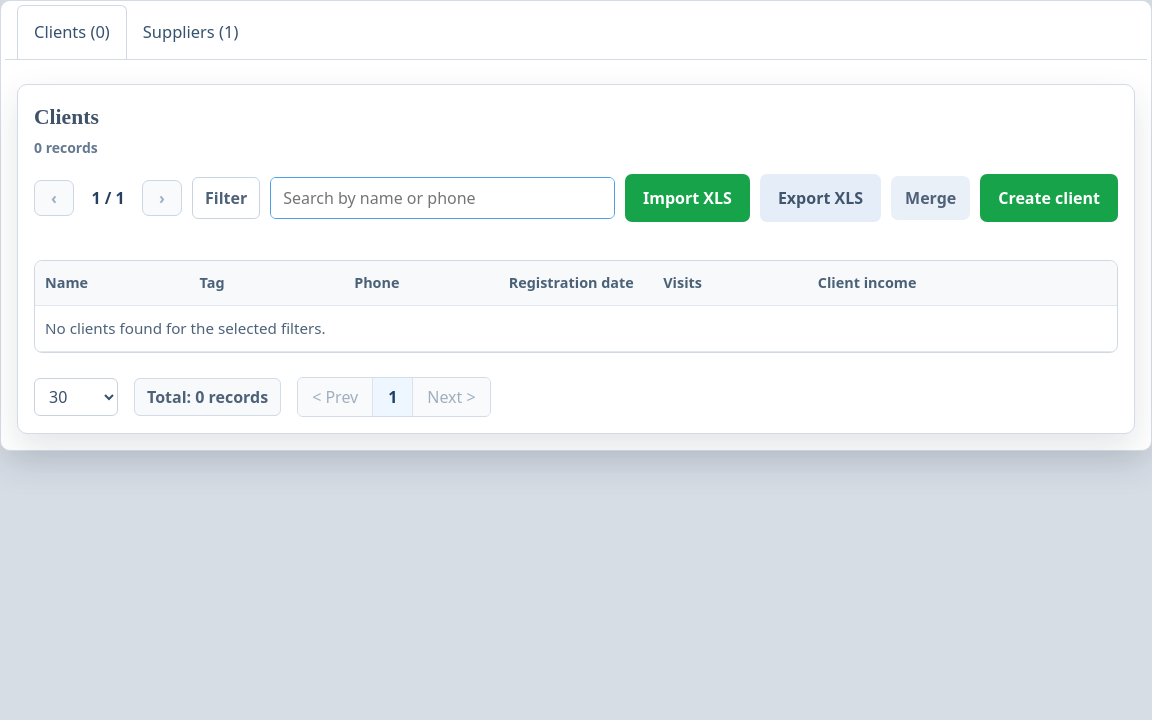
Scenario: ClientsSuppliersWorkspace suppliers filters › opens CatalogRecordMergeModal on Clients tab with swap and target/source inputs
What coordinates should you click on to do the following:
click the button "Merge"
I would click on:
 (931, 198)
Its box is [891,176,970,220].
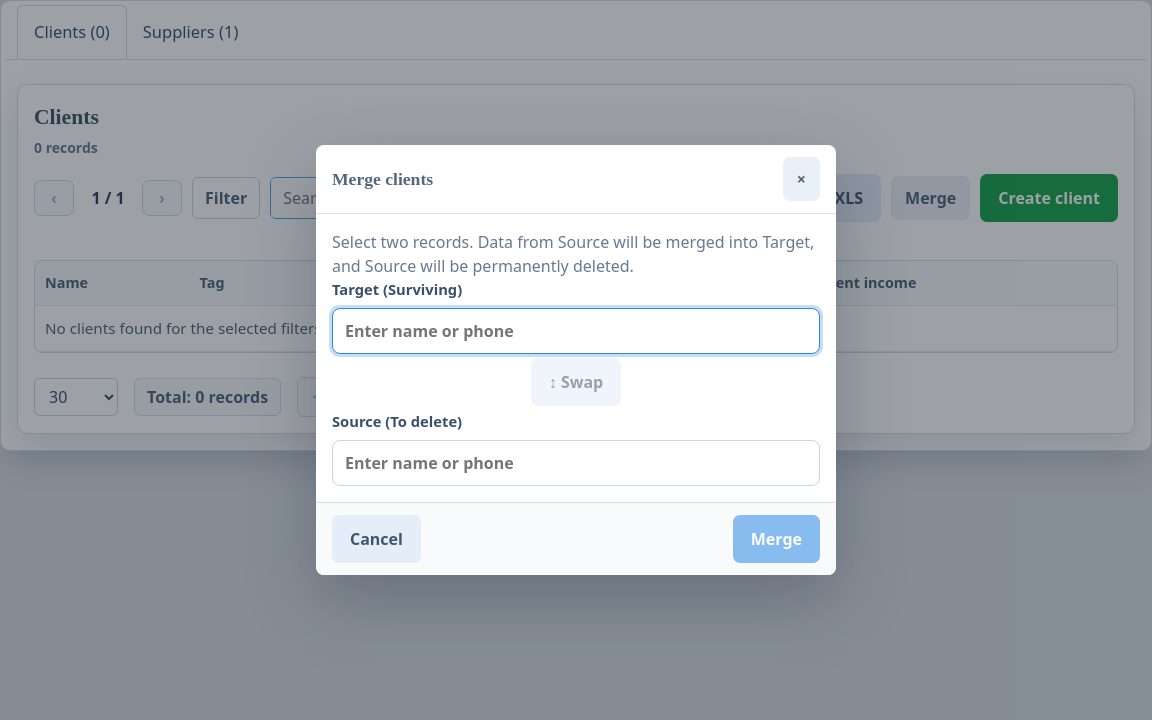
Expected: the dialog is shown, [316,145,836,575]
Expected: the heading "Merge clients" is shown, [332,166,433,192]
Expected: the field labelled "Target (Surviving)" is shown, [332,308,820,354]
